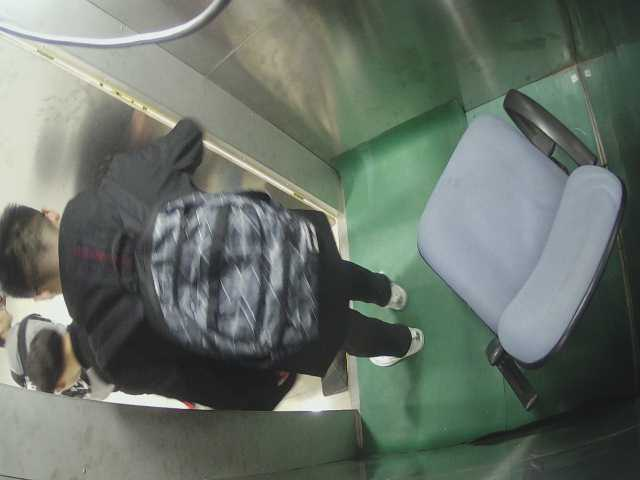bag: (130, 180, 331, 357)
chair: (398, 87, 637, 379)
person: (2, 187, 430, 372)
